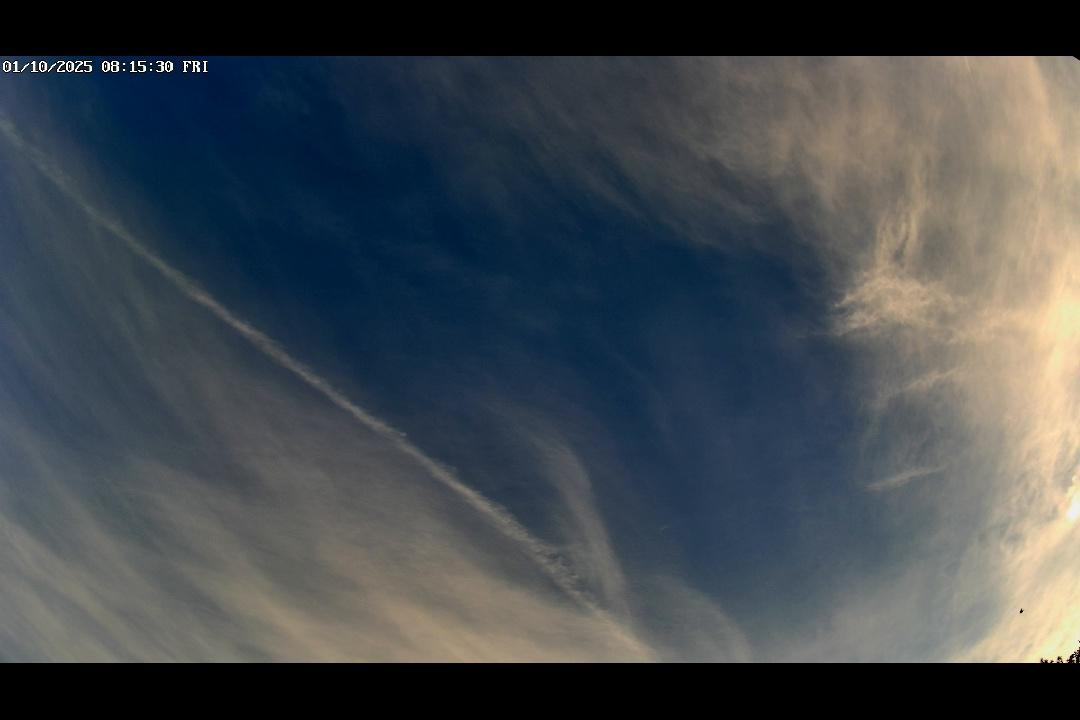WildLife: (1016, 604, 1027, 618)
